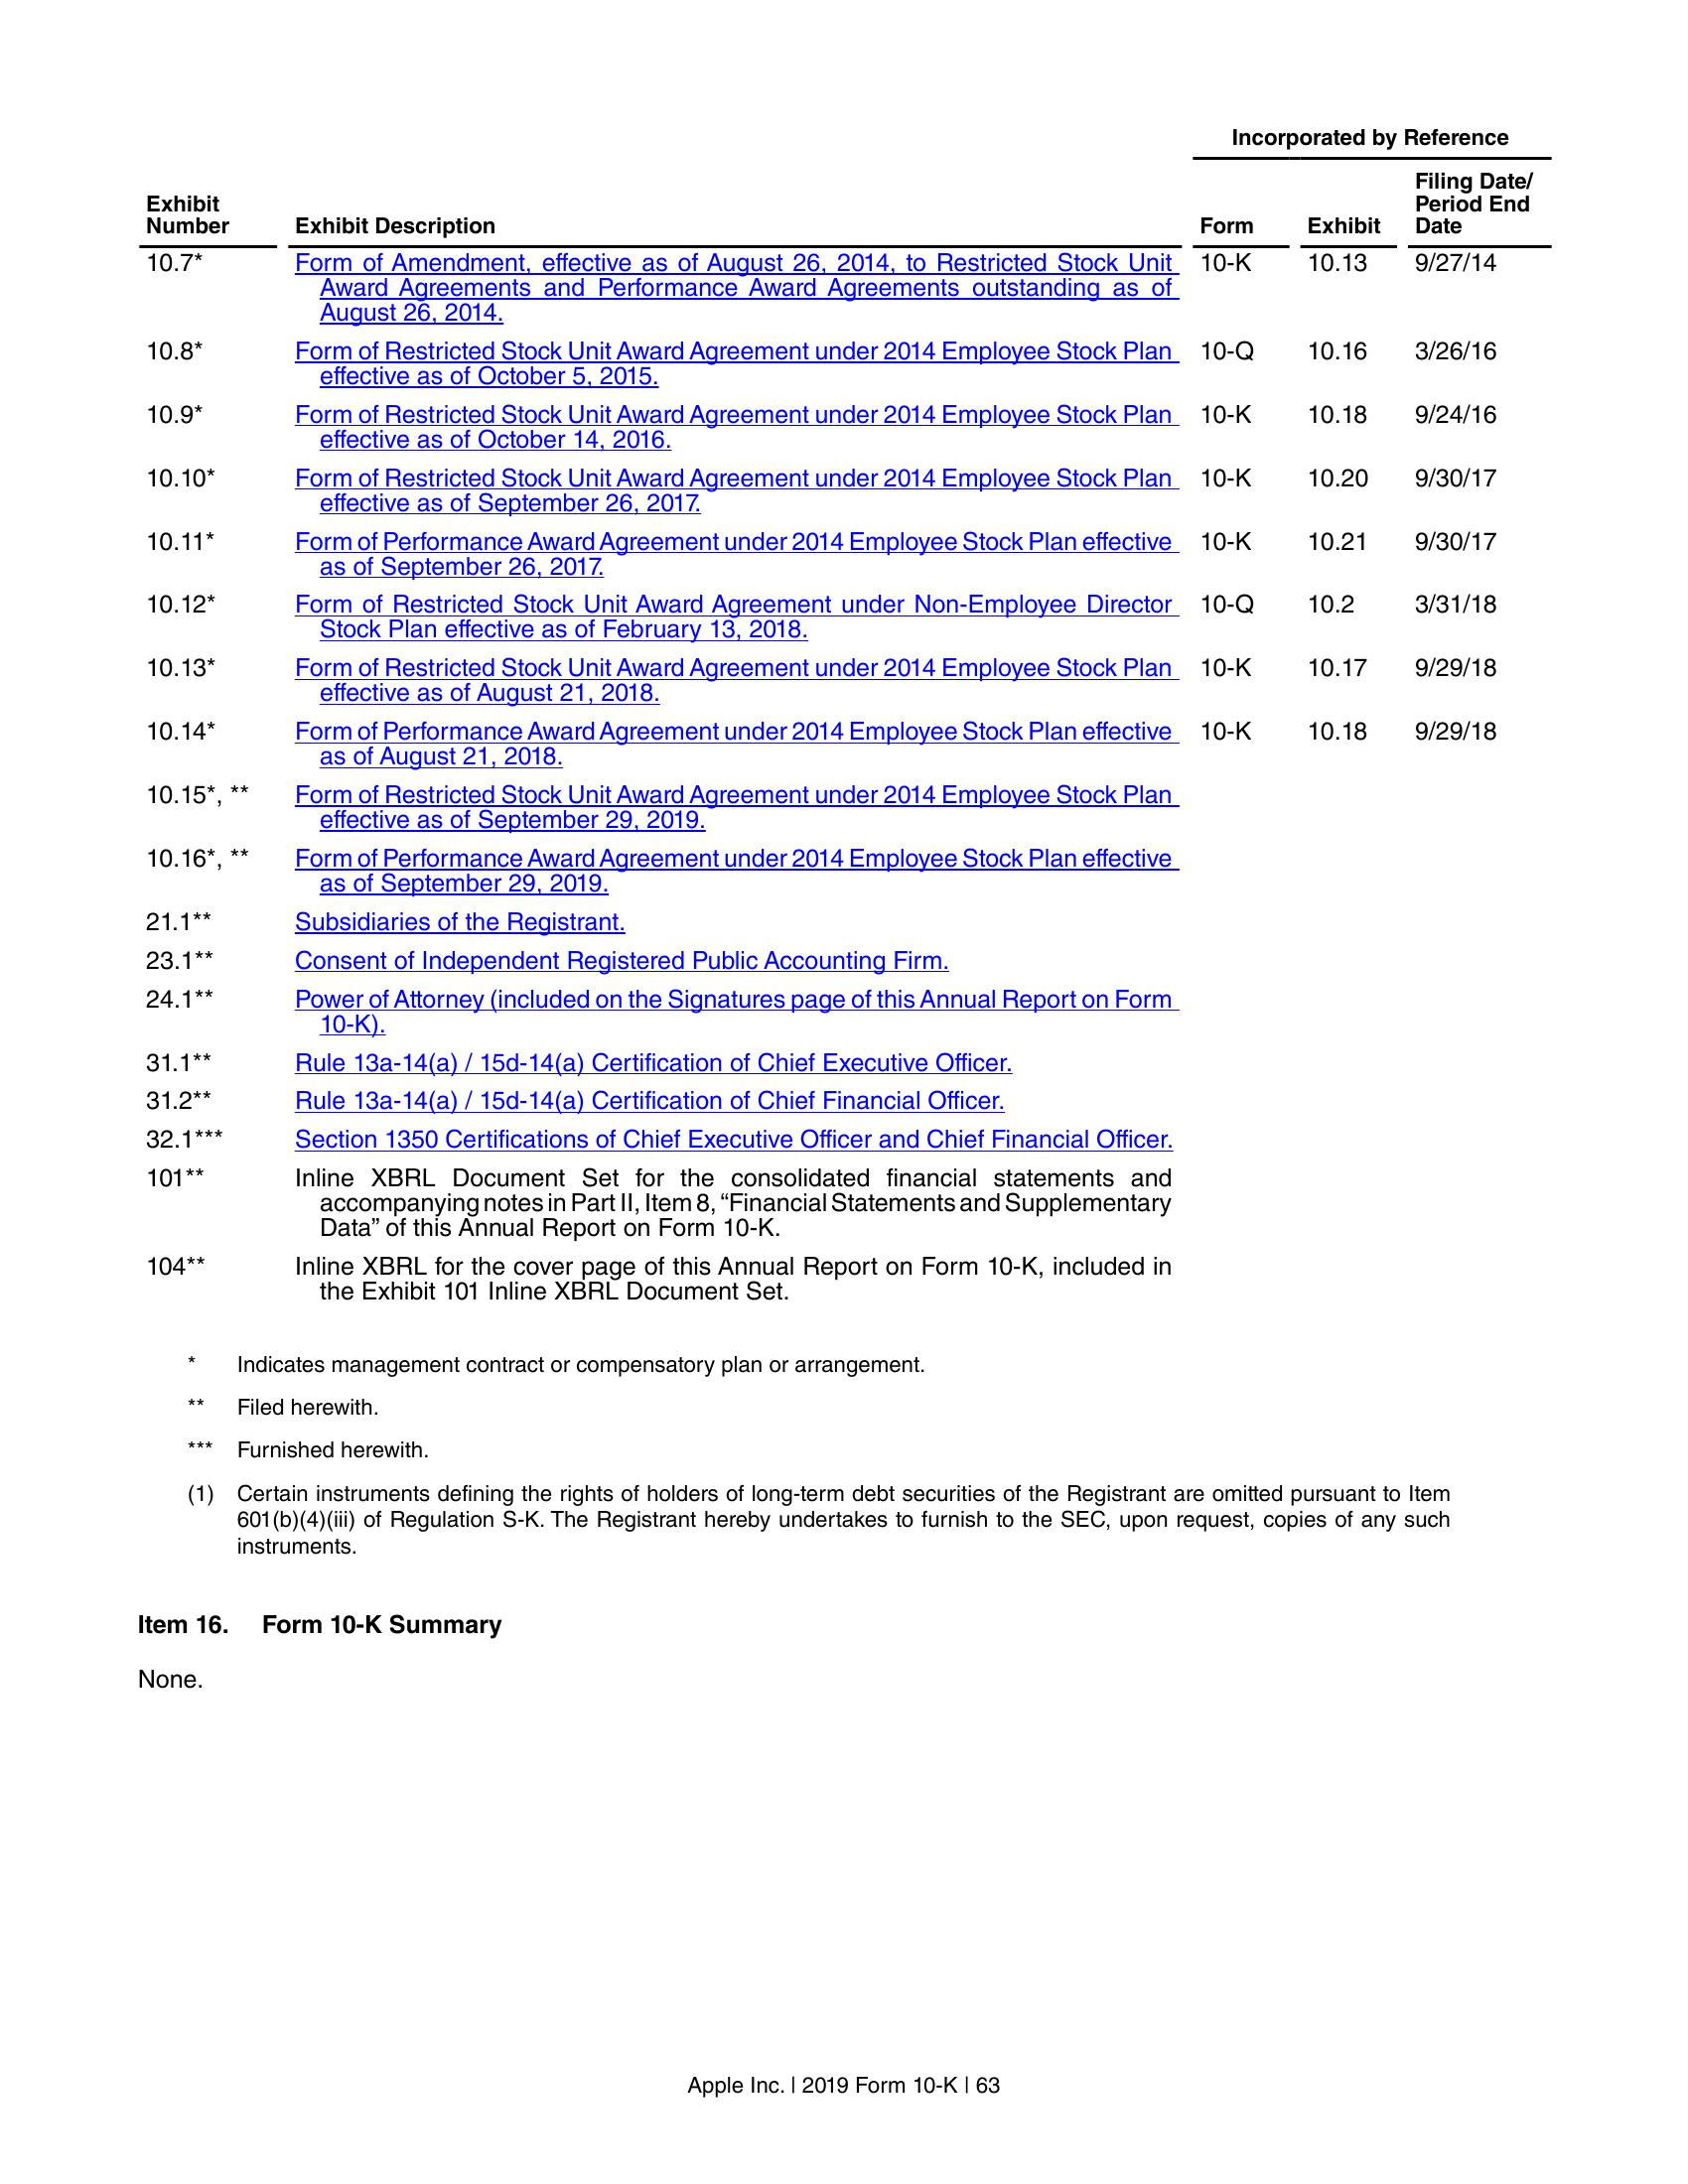table: (129, 117, 1562, 1310)
